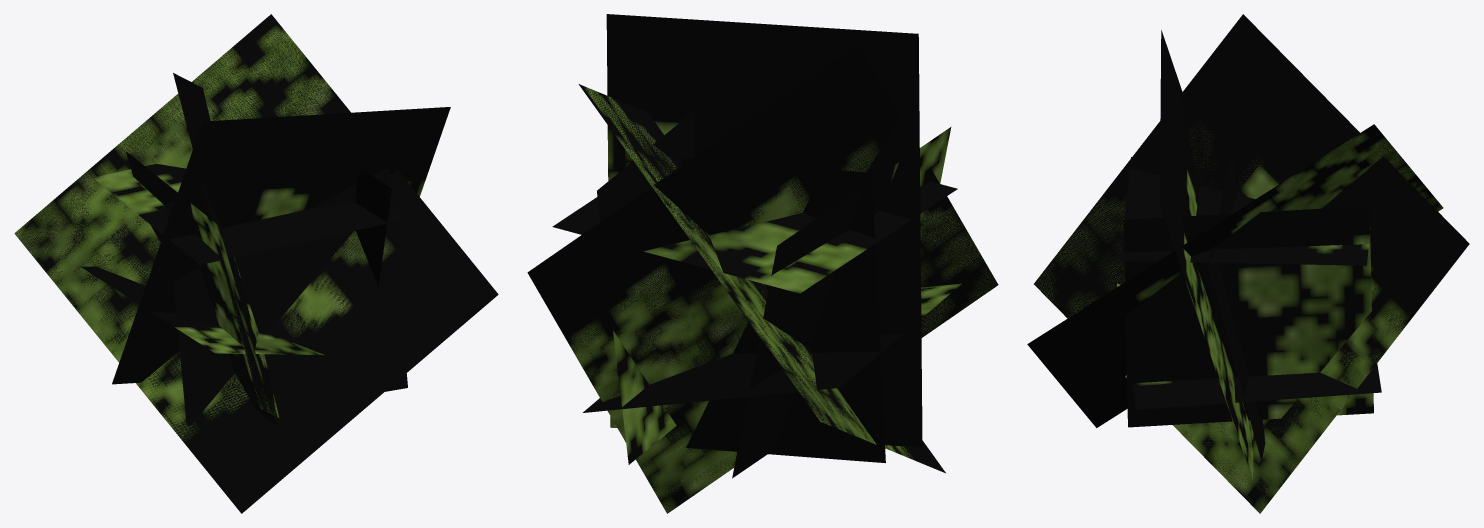
Rendered from linden_leaves_vertical_slab_3.obj.
3 renders of one model, left to right at view 1: azimuth 30°, elevation 25°; view 2: azimuth 150°, elevation 25°; view 3: azimuth 270°, elevation 25°, orthographic. The views are drawn at different scales.
Parts seen in each view (by area): view 1: cube; view 2: cube; view 3: cube.
Boxes of the visible parts, x1=… form: cube: x1=14, y1=14, x2=498, y2=513; cube: x1=527, y1=14, x2=998, y2=513; cube: x1=1027, y1=14, x2=1469, y2=513.
Bounding box in the file's own units: 2.25 × 2.85 × 2.69.
